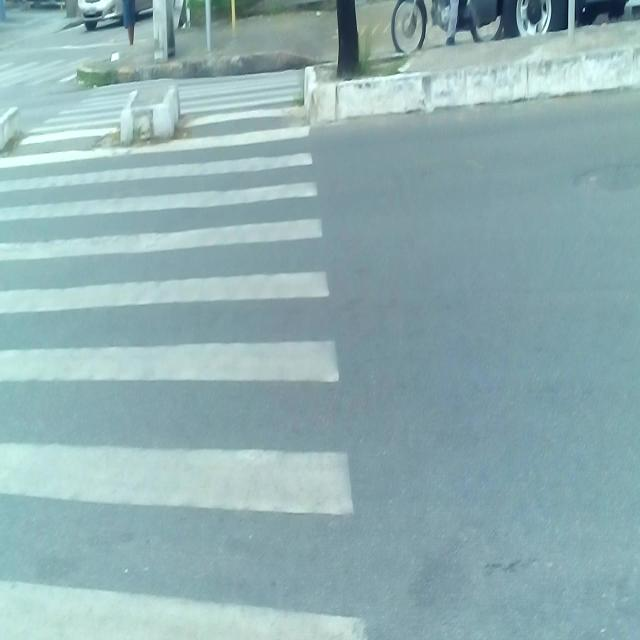crosswalk: (0, 66, 374, 640), (0, 59, 111, 87)
